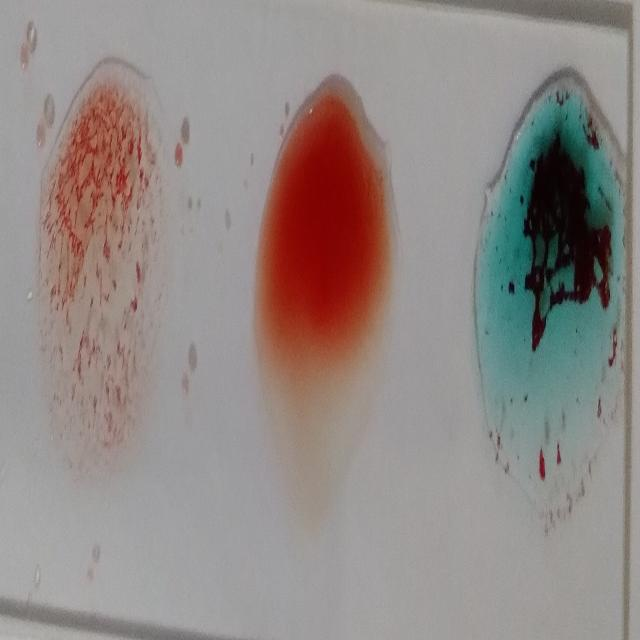A: (474, 39, 626, 533)
D: (35, 50, 165, 487)
